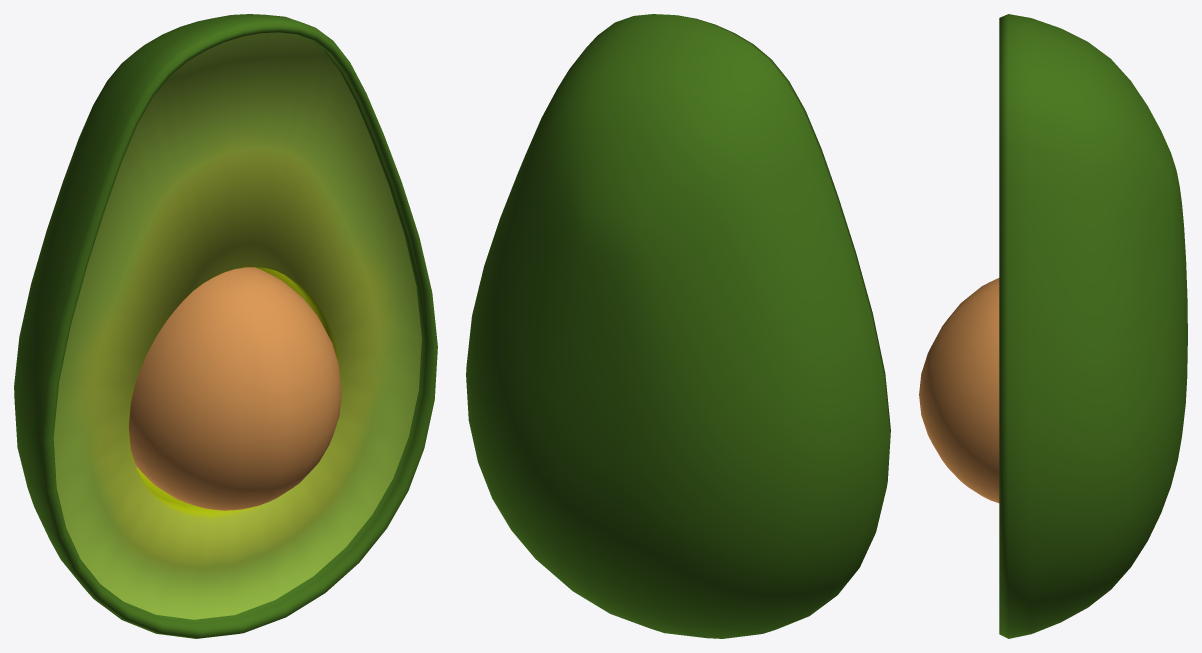
File: Avocado.gltf
The picture shows the model from 3 angles, left to right: view 1: azimuth 30°, elevation 25°; view 2: azimuth 150°, elevation 25°; view 3: azimuth 270°, elevation 25°; orthographic projection. The views are drawn at different scales.
Visible parts, largest first — view 1: Avocado; view 2: Avocado; view 3: Avocado.
Boxes of the visible parts, <box> form: Avocado: <box>14,14,437,638</box>; Avocado: <box>466,14,890,638</box>; Avocado: <box>919,14,1187,638</box>.
Size of the model in its own units: 0.6696 by 0.9883 by 0.4086.
1 material, 1 textured.
